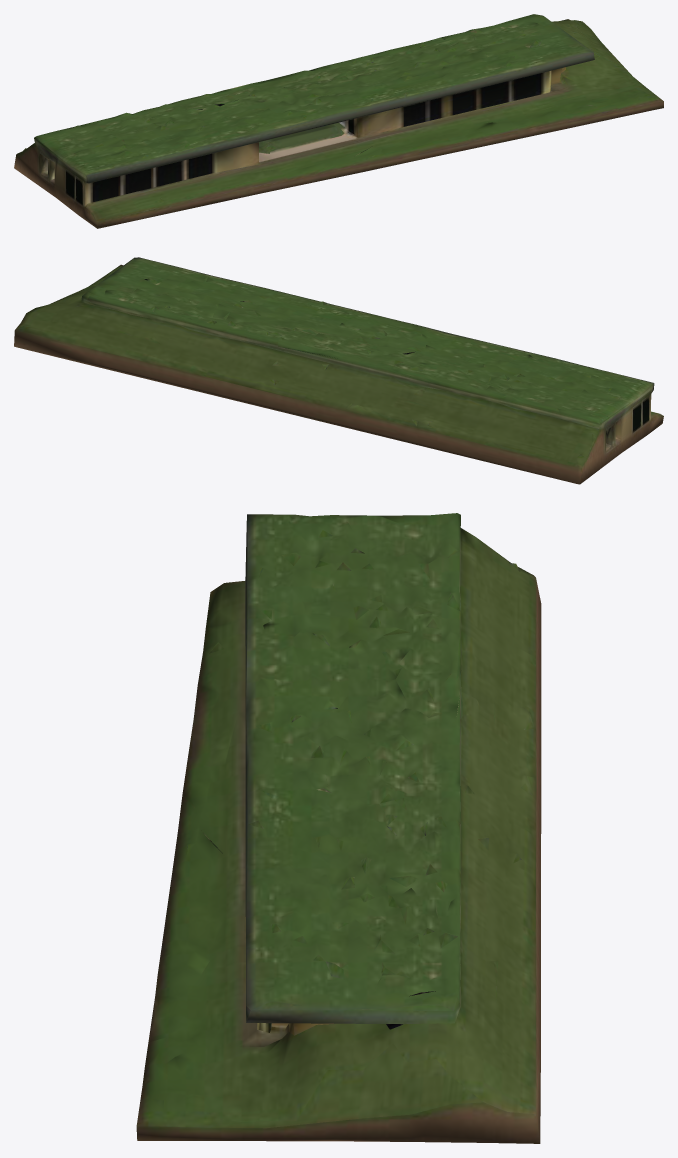
The model's file is maggie_fieldhouse.glb.
The picture shows the model from 3 angles, top to bottom: view 1: azimuth 30°, elevation 25°; view 2: azimuth 150°, elevation 25°; view 3: azimuth 270°, elevation 25°; orthographic projection. The views are drawn at different scales.
Visible parts, largest first — view 1: maggie_fieldhouse; view 2: maggie_fieldhouse; view 3: maggie_fieldhouse.
Boxes of the visible parts, x1=… form: maggie_fieldhouse: x1=14, y1=14, x2=663, y2=228; maggie_fieldhouse: x1=14, y1=257, x2=663, y2=484; maggie_fieldhouse: x1=136, y1=513, x2=541, y2=1143.
Size of the model in its own units: 57 by 5 by 18.
Materials: 1 (1 with a texture image).
